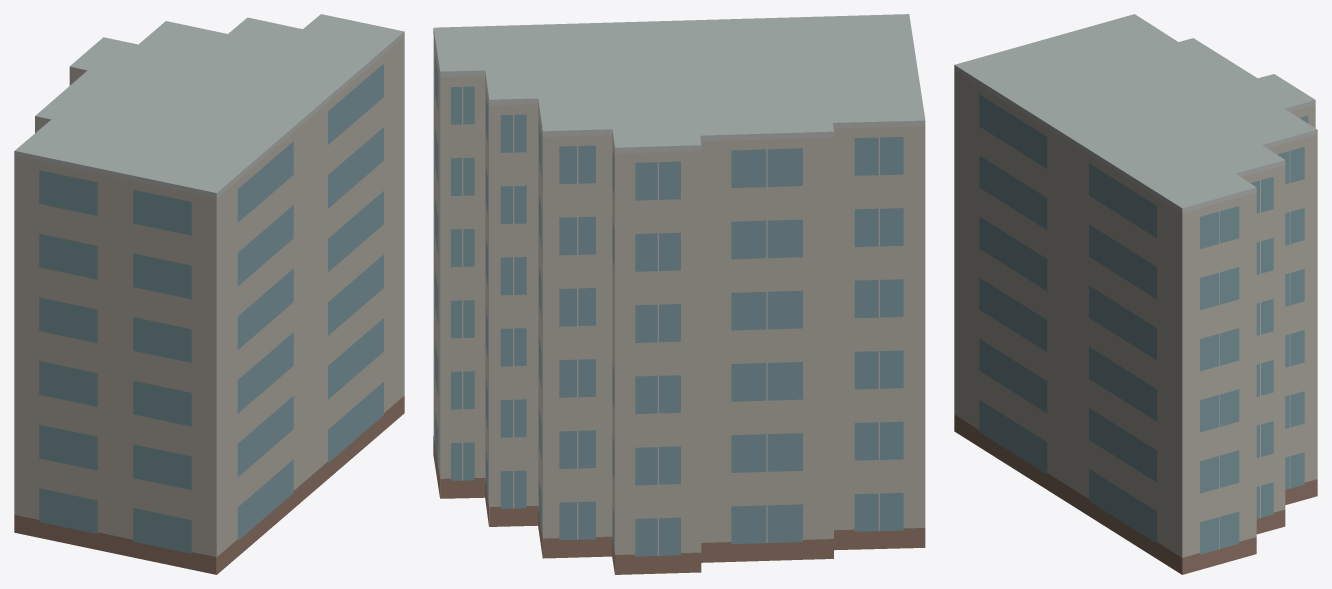
File: survey-upis-32963954.glb
The picture shows the model from 3 angles, left to right: view 1: azimuth 30°, elevation 25°; view 2: azimuth 150°, elevation 25°; view 3: azimuth 270°, elevation 25°; orthographic projection. The views are drawn at different scales.
Parts seen in each view (by area): view 1: survey-upis-32963954.tmp; view 2: survey-upis-32963954.tmp; view 3: survey-upis-32963954.tmp.
Boxes of the visible parts, box(x1,y1,x2,y2) form: survey-upis-32963954.tmp: box(14, 14, 404, 574); survey-upis-32963954.tmp: box(433, 14, 925, 574); survey-upis-32963954.tmp: box(954, 14, 1317, 574).
Bounding box in the file's own units: 20.82 × 18.3 × 16.45.
